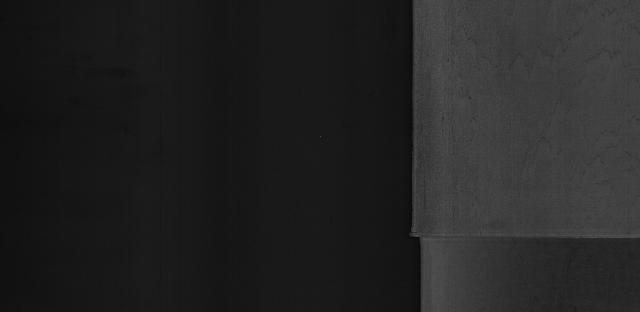welding_line: (401, 228, 640, 250)
